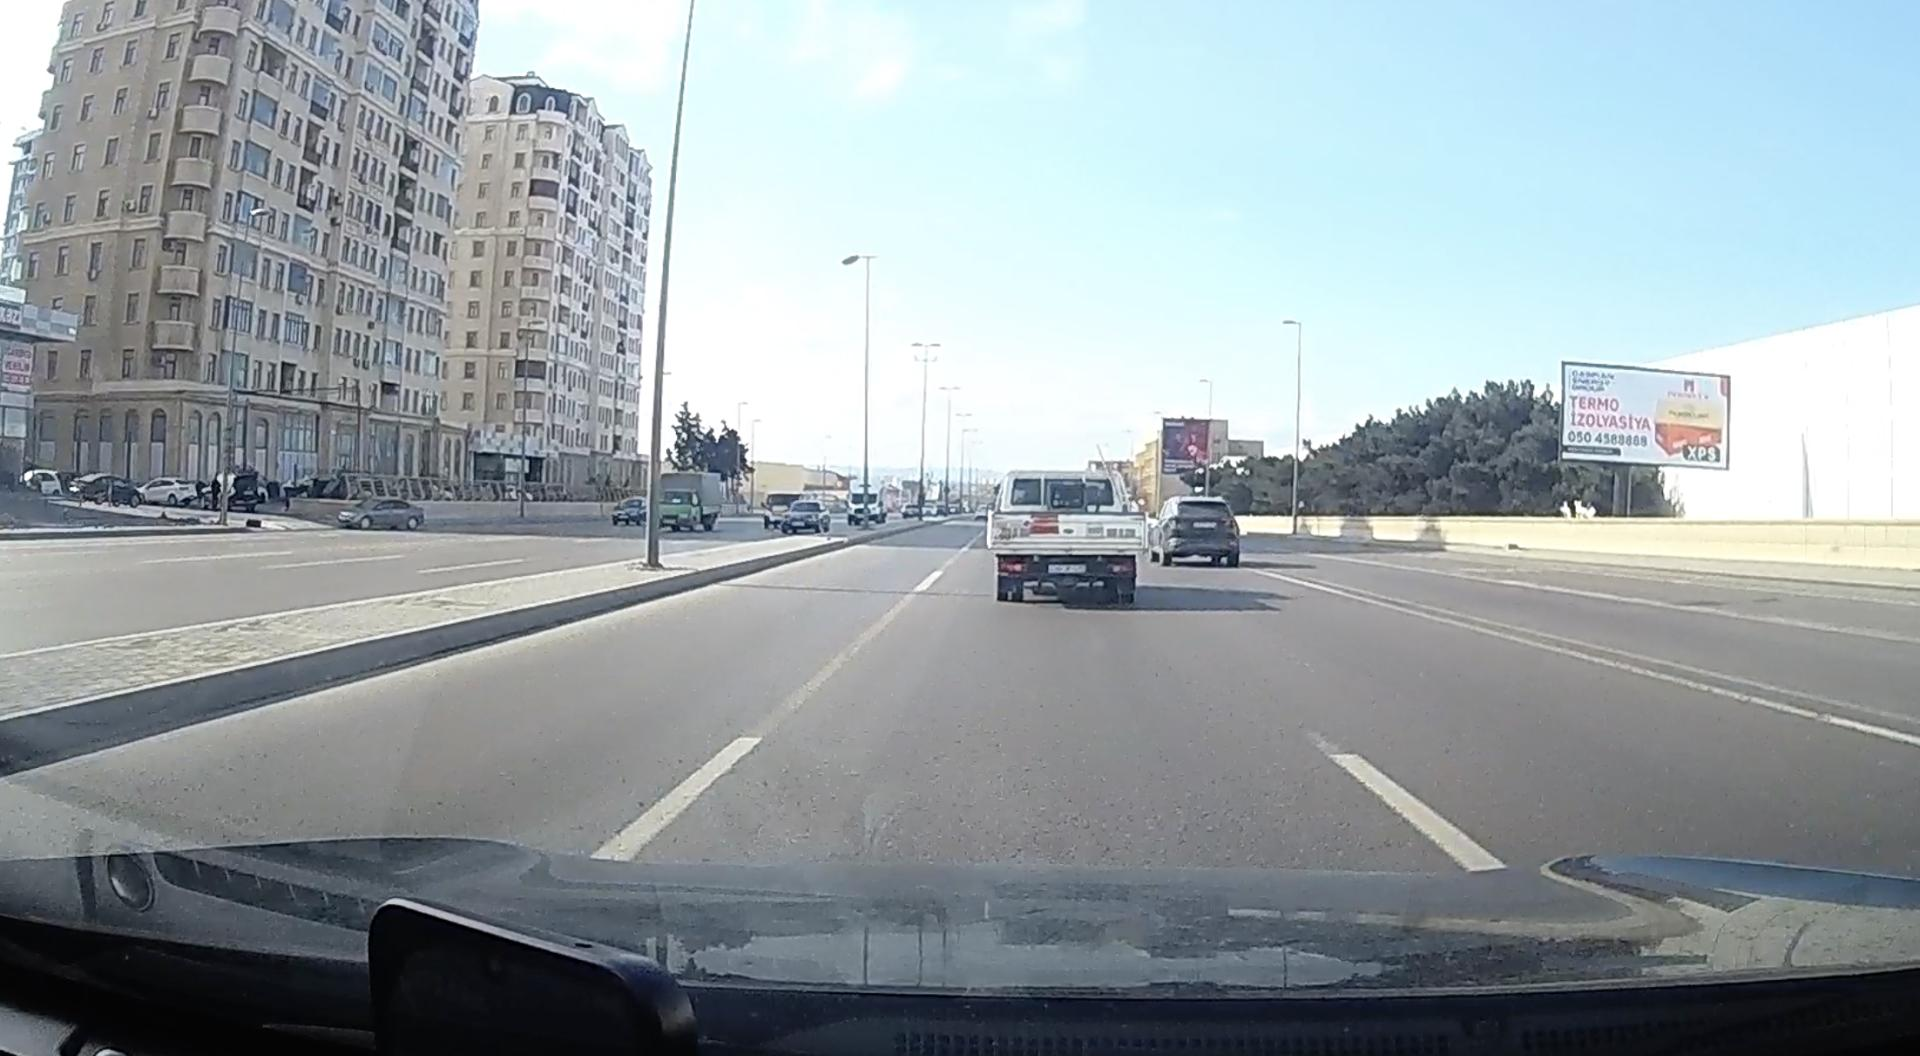banner: (1559, 358, 1732, 473)
